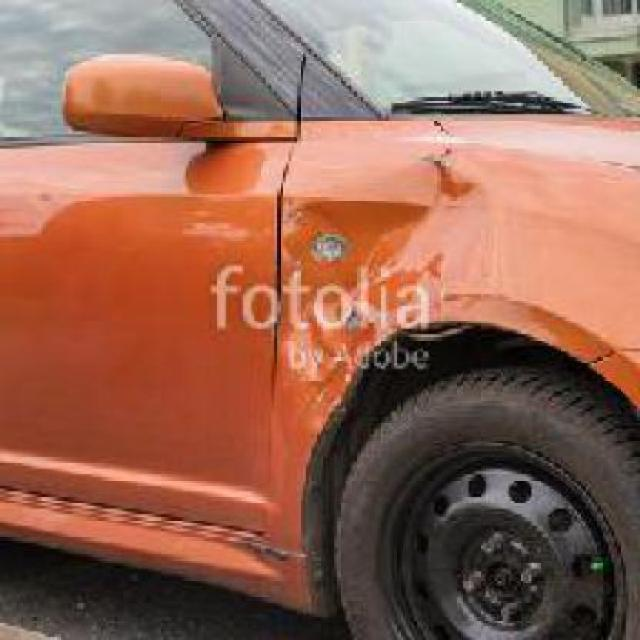dent-or-scratch: (284, 168, 444, 357)
